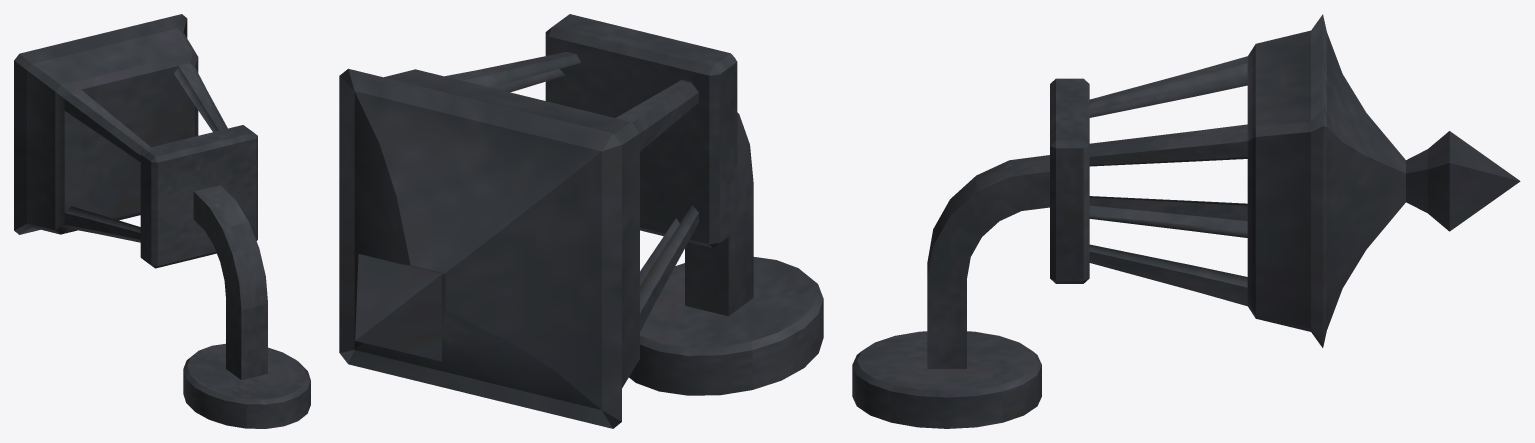
Rendered from LanternE.FBX.
The picture shows the model from 3 angles, left to right: view 1: azimuth 30°, elevation 25°; view 2: azimuth 150°, elevation 25°; view 3: azimuth 270°, elevation 25°; orthographic projection. The views are drawn at different scales.
Parts seen in each view (by area): view 1: pCube1328_10__Metal00; view 2: pCube1328_10__Metal00; view 3: pCube1328_10__Metal00.
Part boxes in pixels (x1,y1,x2,y2): pCube1328_10__Metal00: [14, 14, 310, 428]; pCube1328_10__Metal00: [339, 14, 823, 428]; pCube1328_10__Metal00: [852, 14, 1520, 428].
Bounding box in the file's own units: 64.92 × 92.46 × 169.
